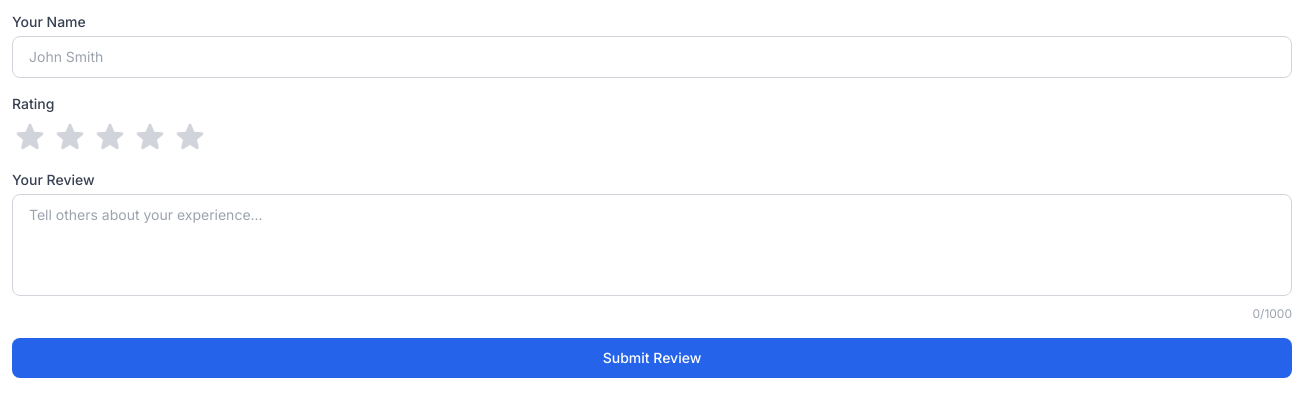
Scenario: TestimonialForm › shows validation error for no rating
Type "John" into the field labelled "Your Name" at (652, 57), box [12,36,1292,78]
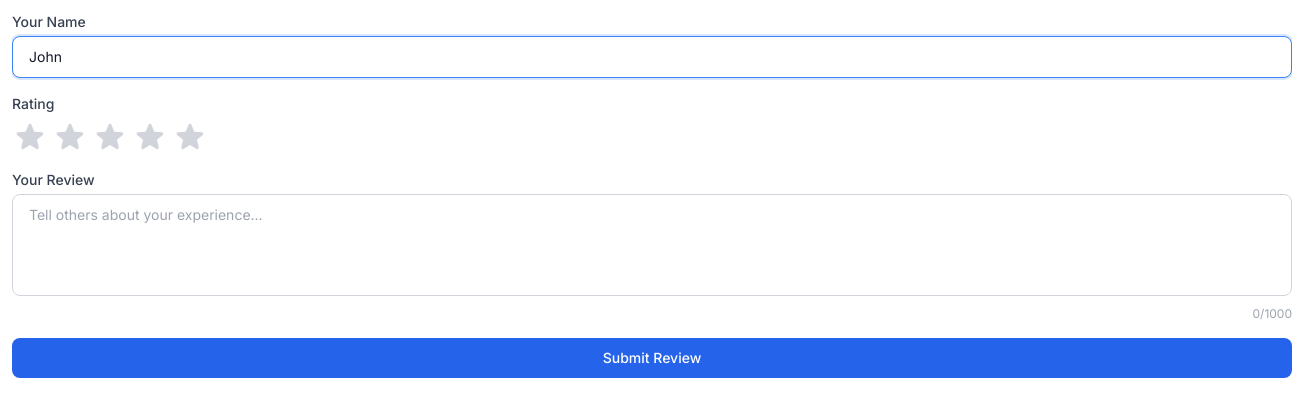
Type "This is a great review text." into the text box labelled "Your Review" at (652, 245), box [12,194,1292,296]
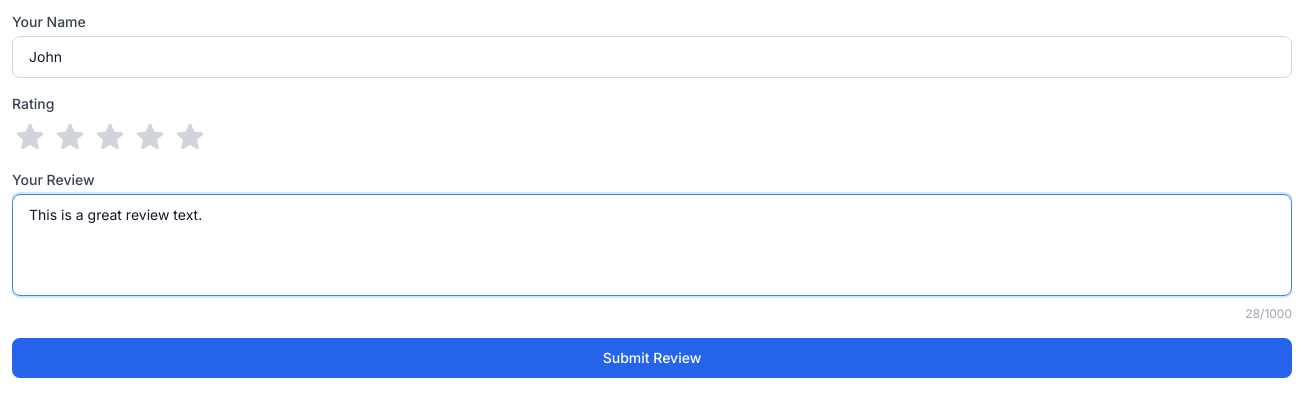
Click the button "Submit Review" at (652, 358), box [12,338,1292,378]
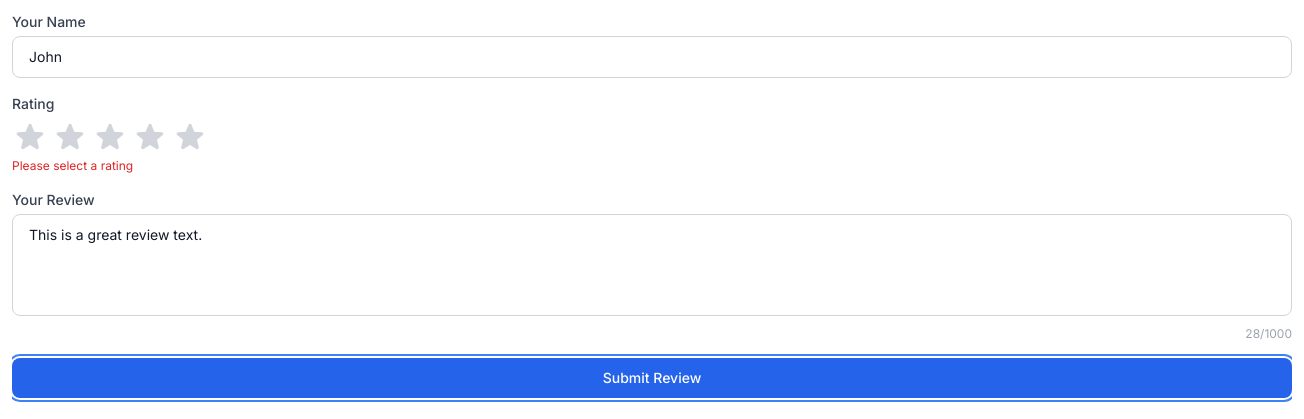
Expected: the text "Please select a rating" is shown, [12,158,133,173]
